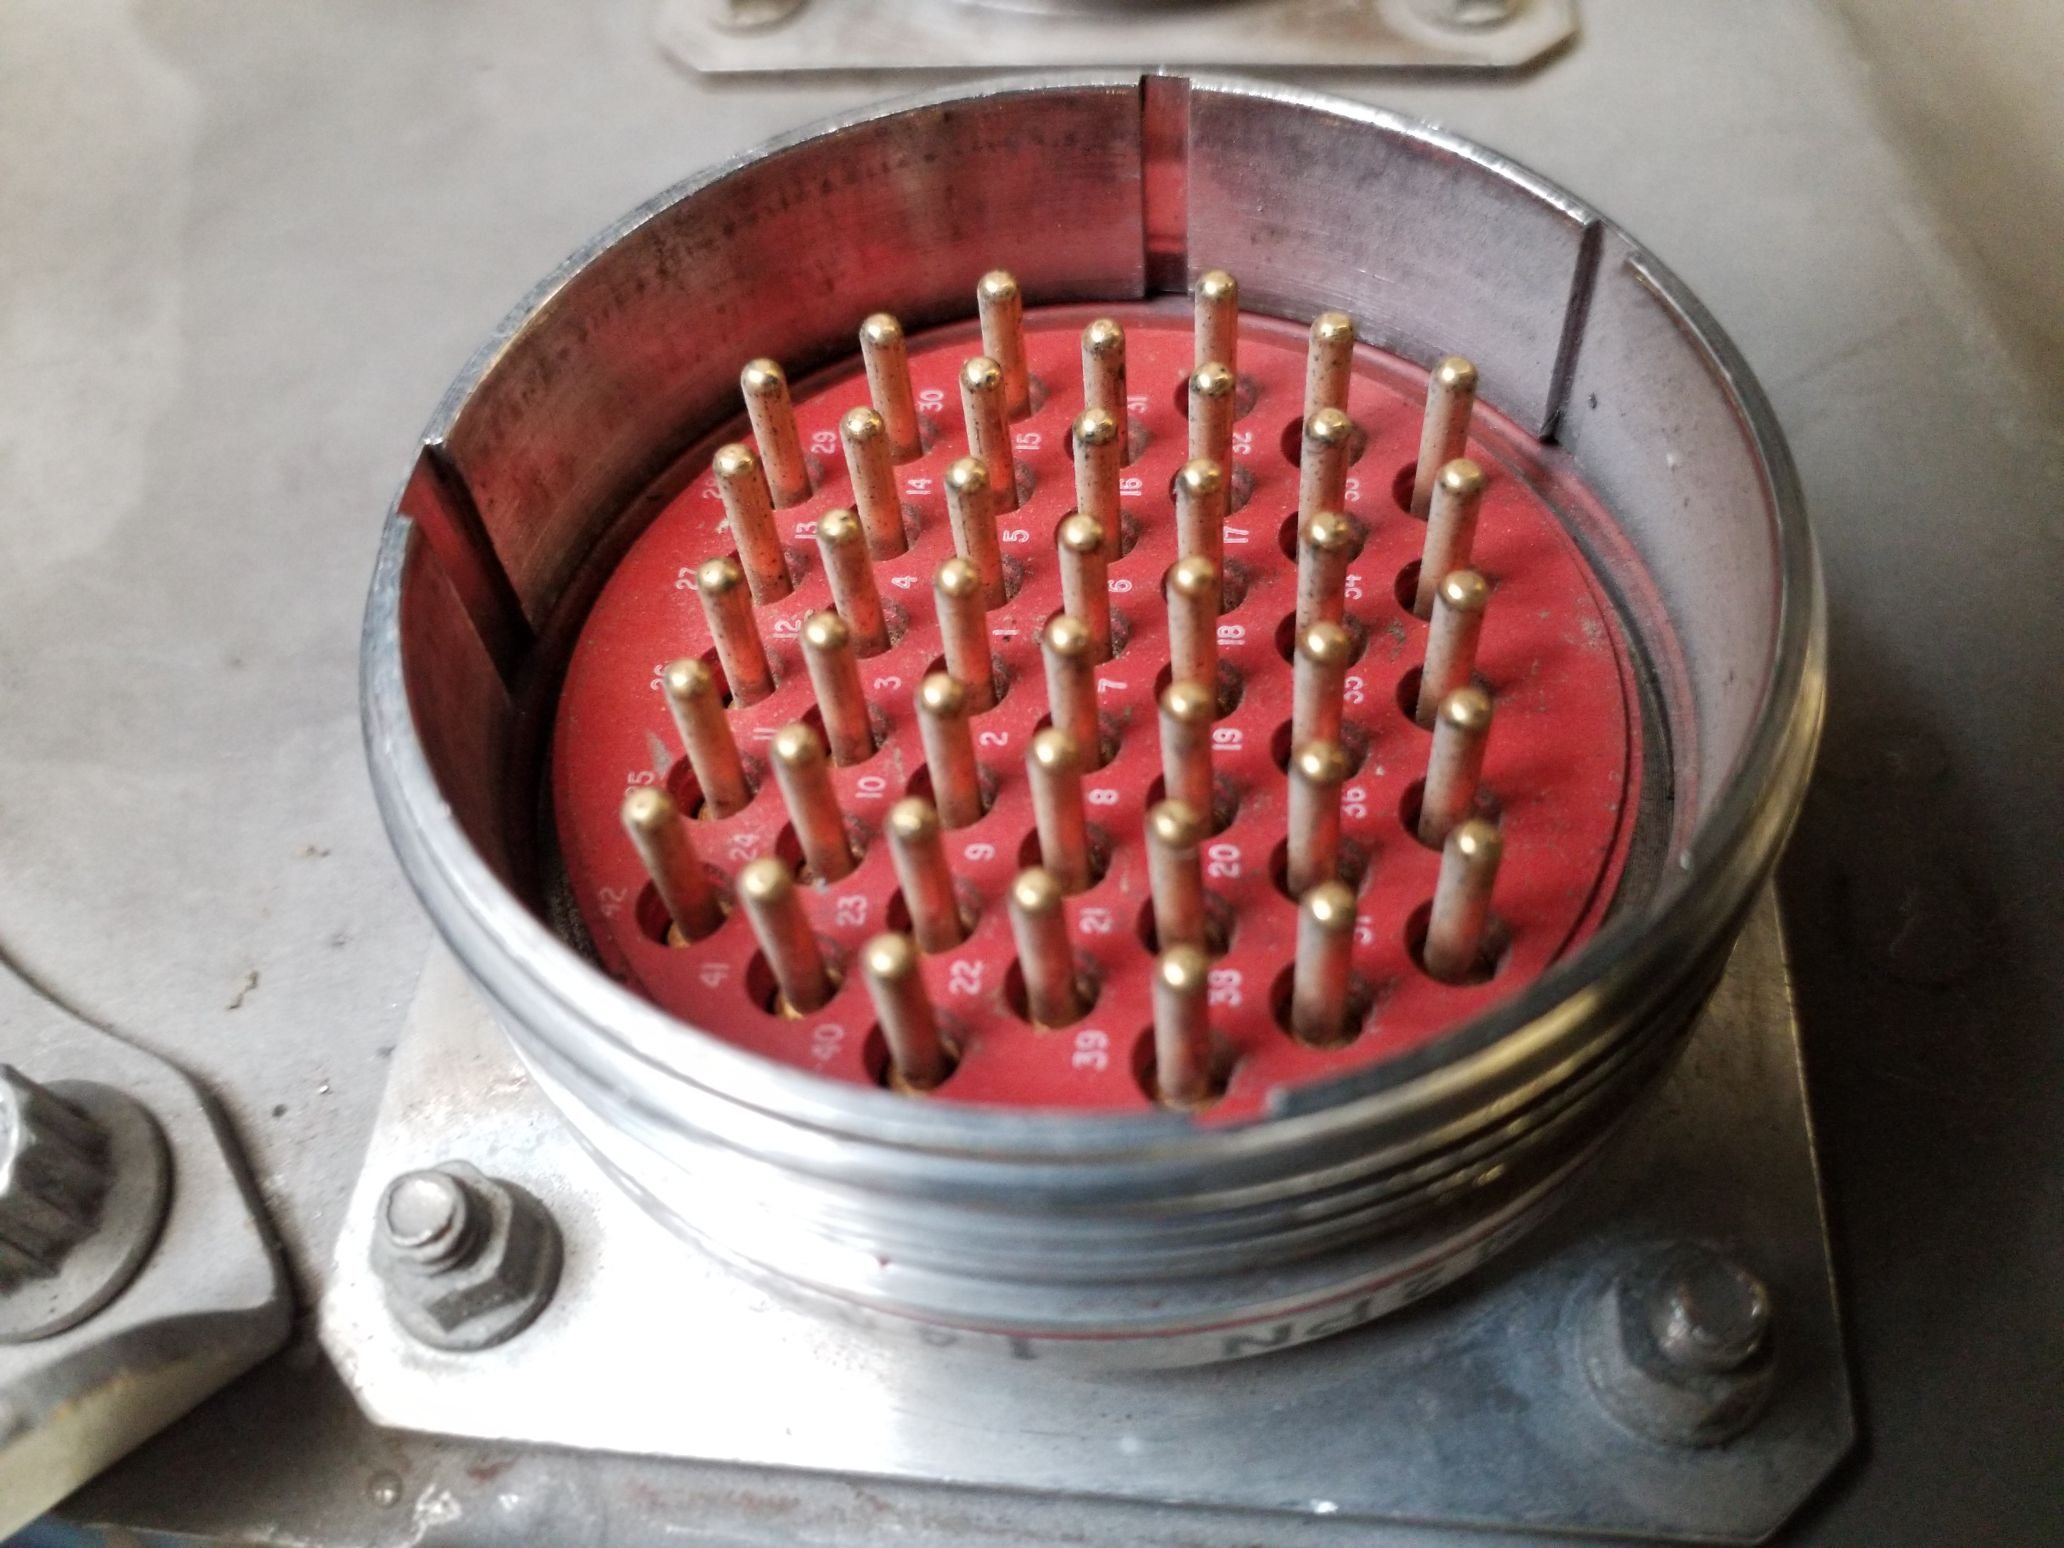outlet: (384, 49, 1840, 1249)
